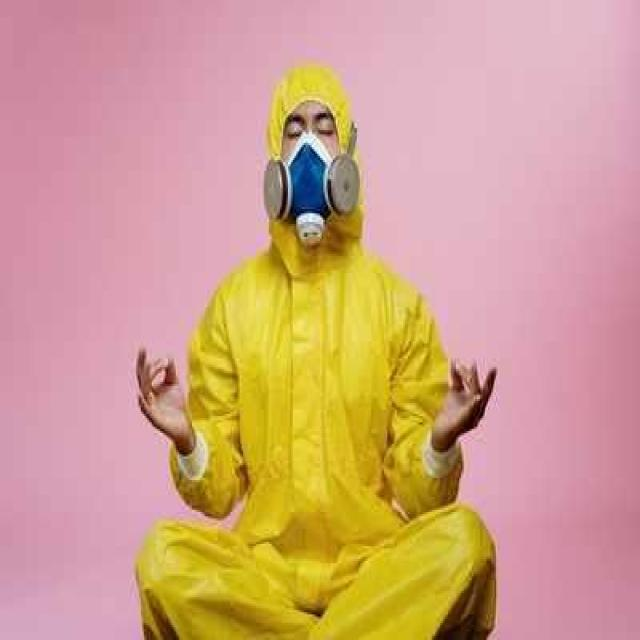Coverall: (160, 36, 517, 627)
Mask: (274, 137, 341, 246)
